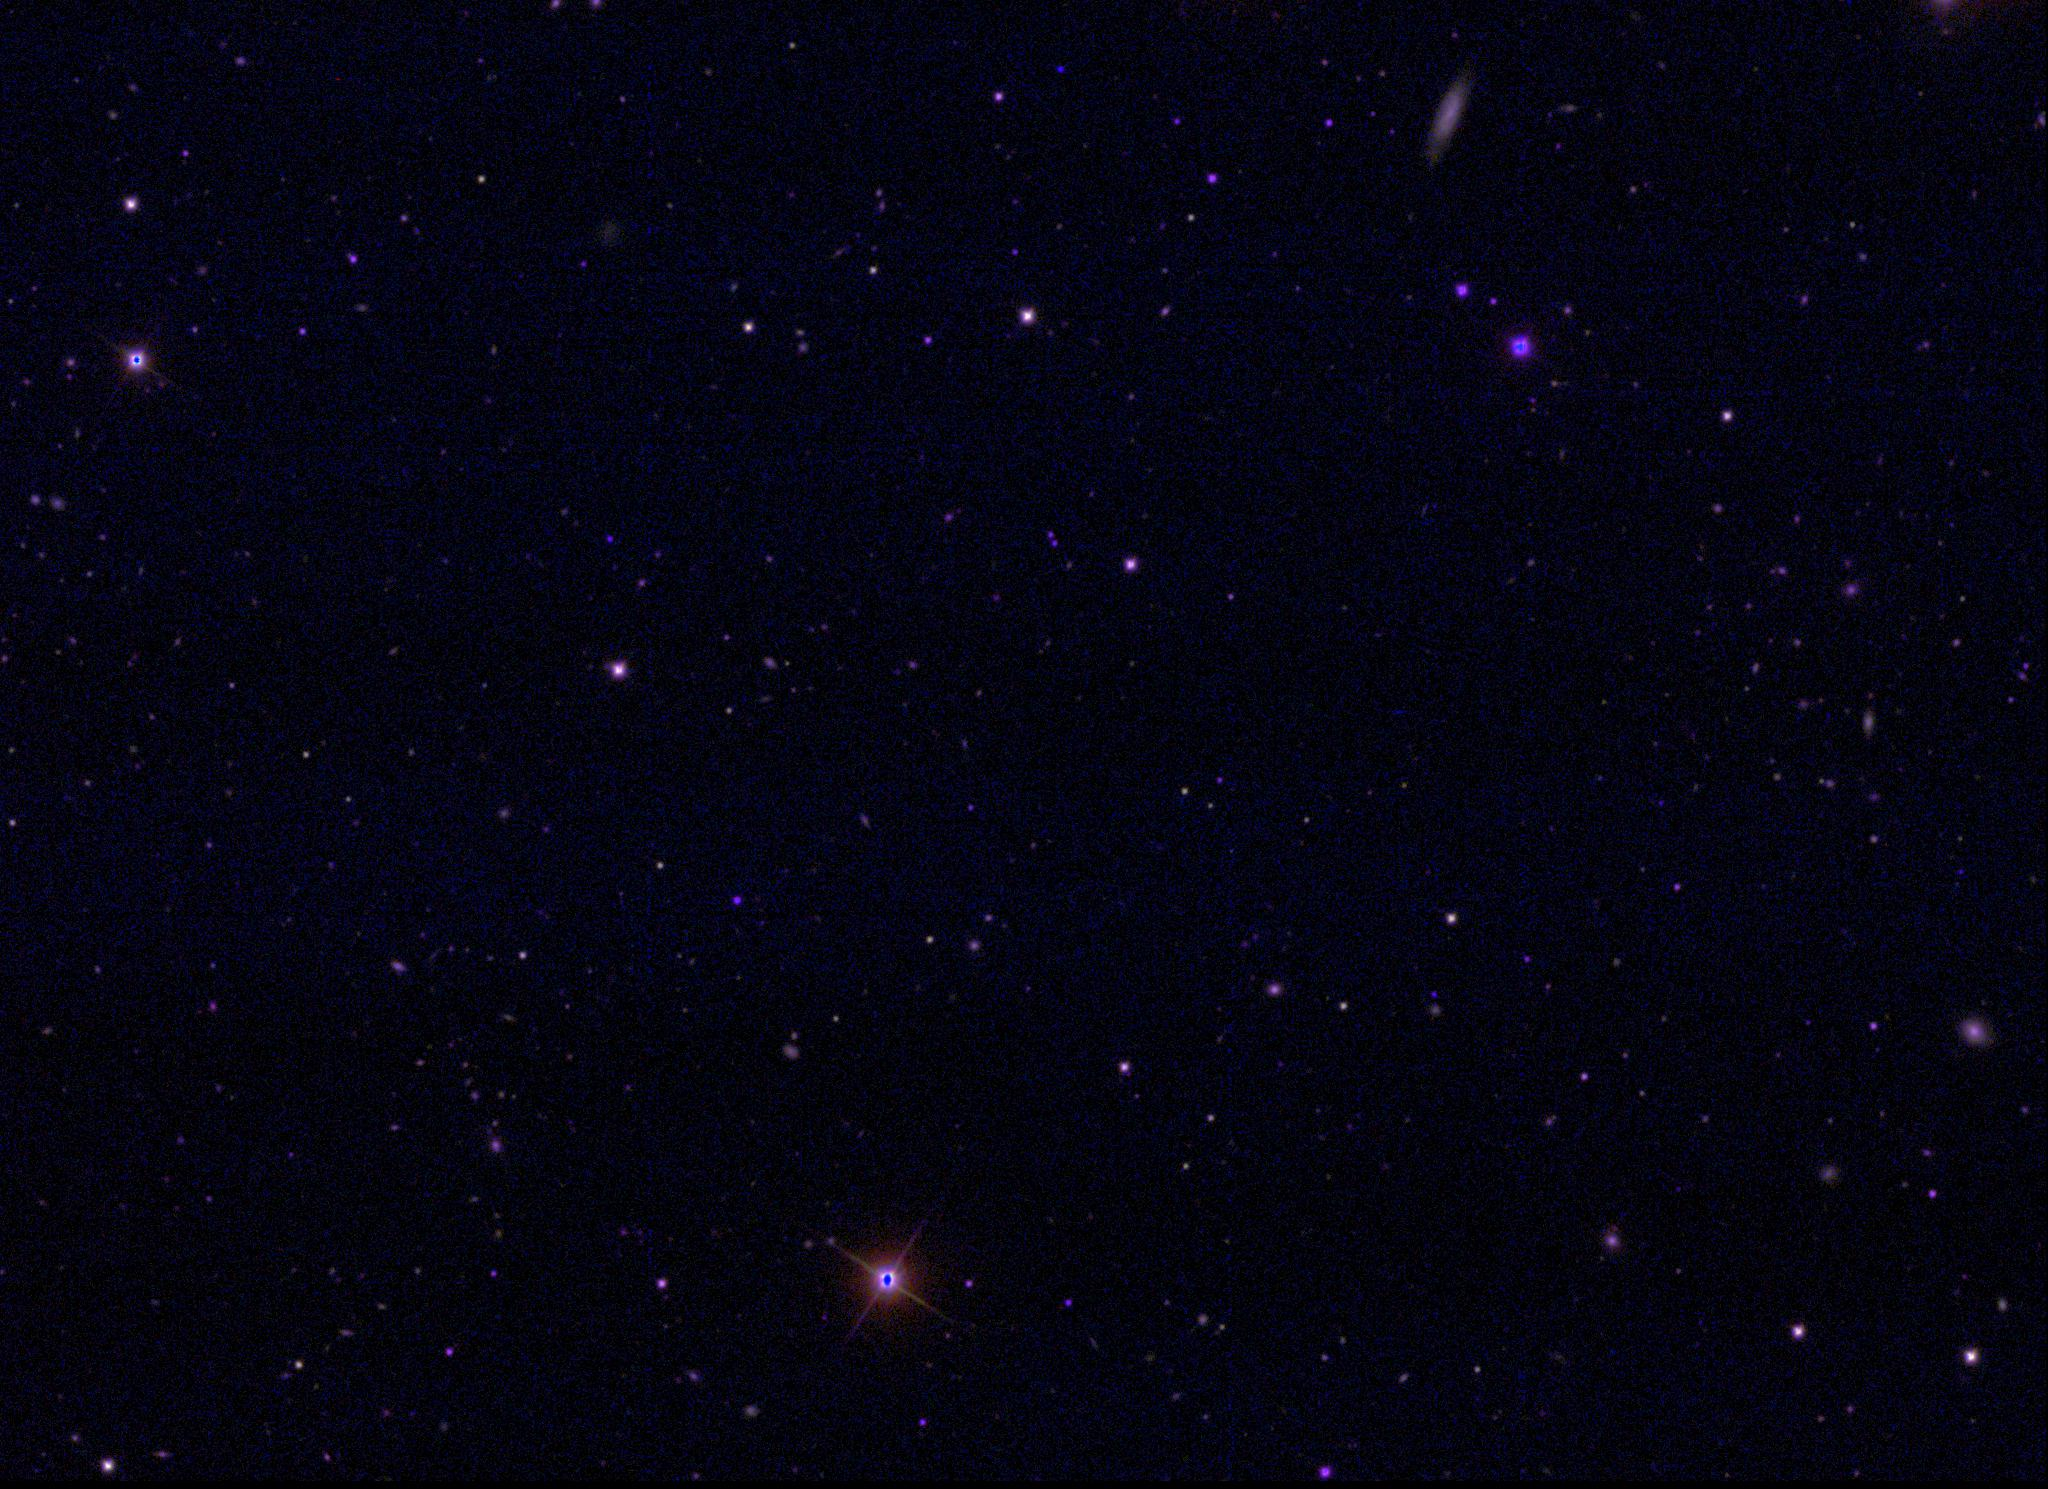L: (1054, 60, 1069, 75)
